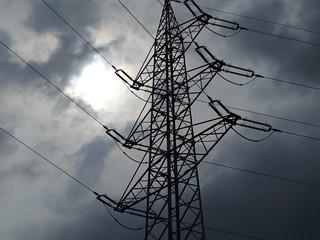power_tower: (100, 0, 249, 240)
